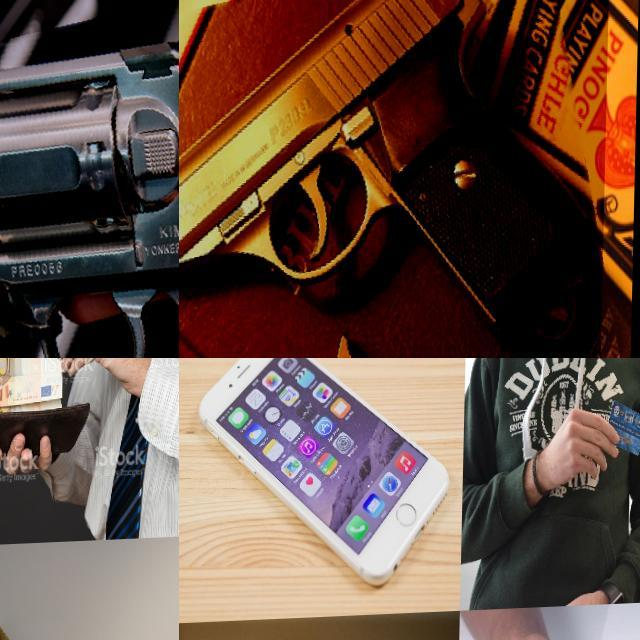gun-knife-thesis - v11 Yolov5 augmented: (179, 0, 610, 358), (0, 0, 179, 358)
